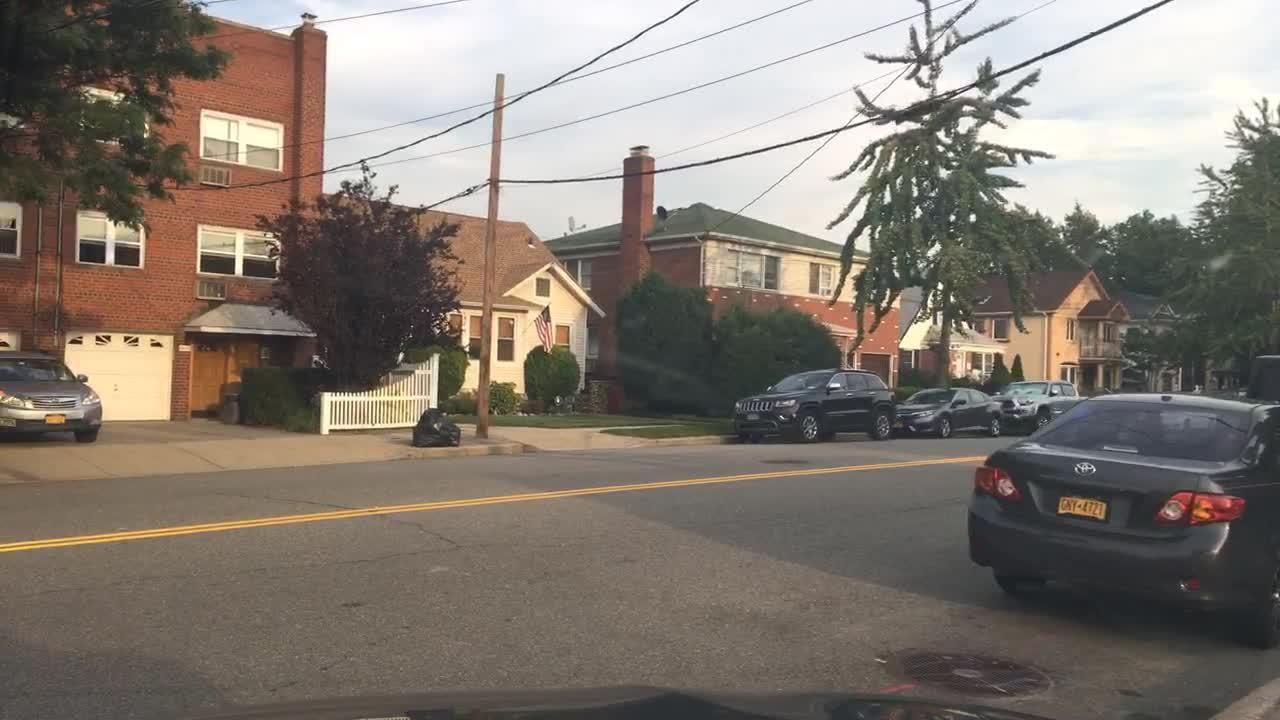Toyota: (1069, 457, 1099, 482)
